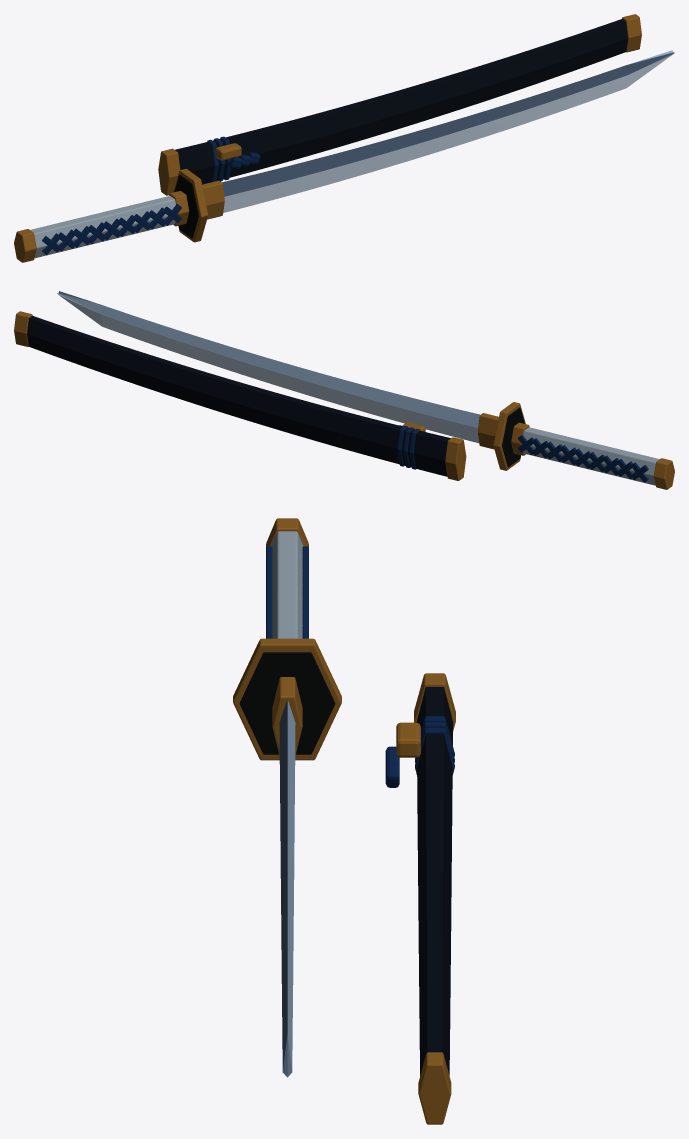
File: Katana_Roblox.glb
The picture shows the model from 3 angles, top to bottom: view 1: azimuth 30°, elevation 25°; view 2: azimuth 150°, elevation 25°; view 3: azimuth 270°, elevation 25°; orthographic projection. The views are drawn at different scales.
Visible parts, largest first — view 1: Katana, Scabbard; view 2: Katana, Scabbard; view 3: Katana, Scabbard.
Boxes of the visible parts, x1,y1,x2,y2 form: Katana: (14,50,674,262); Scabbard: (158,14,641,195); Katana: (57,291,674,489); Scabbard: (14,311,466,480); Katana: (233,518,341,1077); Scabbard: (385,673,455,1124).
Size of the model in its own units: 4.05 by 0.4339 by 0.6352.
Materials: 1 (1 with a texture image).
